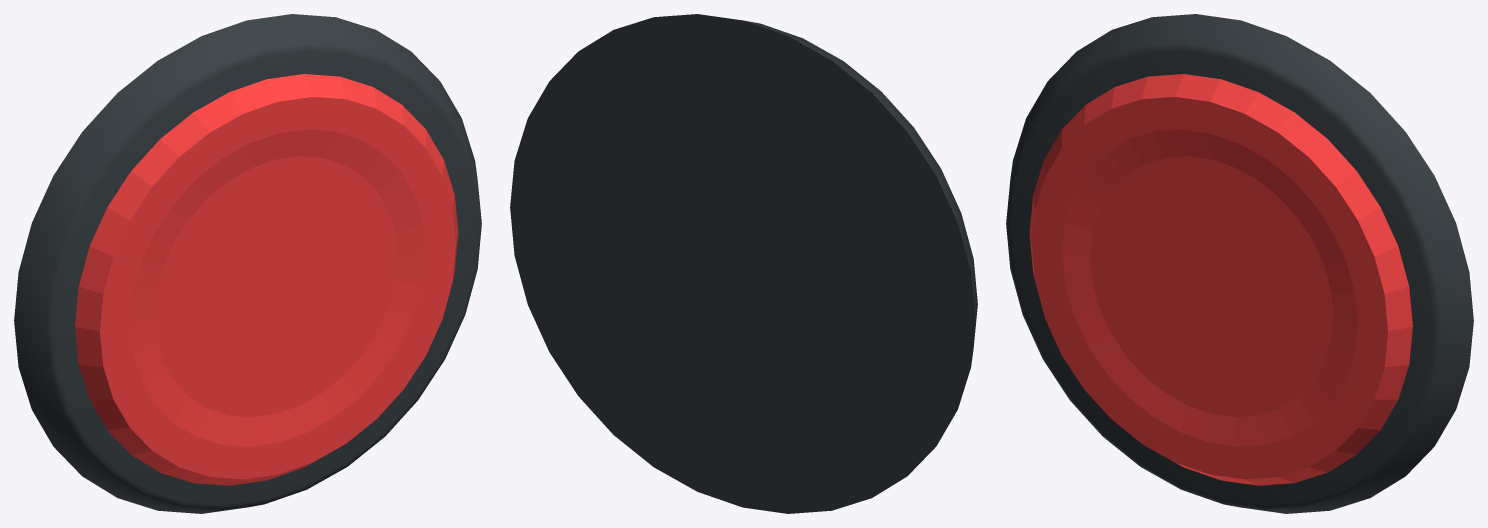
File: OutsideSpaceLight.fbx
3 renders of one model, left to right at view 1: azimuth 30°, elevation 25°; view 2: azimuth 150°, elevation 25°; view 3: azimuth 330°, elevation 25°, orthographic.
Parts seen in each view (by area): view 1: OutsideSpace_Led, OutsideSpace_Body; view 2: OutsideSpace_Body; view 3: OutsideSpace_Led, OutsideSpace_Body.
Part boxes in pixels (<box>): OutsideSpace_Led: <box>75,74,458,485</box>; OutsideSpace_Body: <box>14,14,481,513</box>; OutsideSpace_Body: <box>510,14,977,513</box>; OutsideSpace_Led: <box>1029,74,1412,485</box>; OutsideSpace_Body: <box>1006,14,1473,513</box>.
Bounding box in the file's own units: 13.24 × 1.54 × 13.24.
